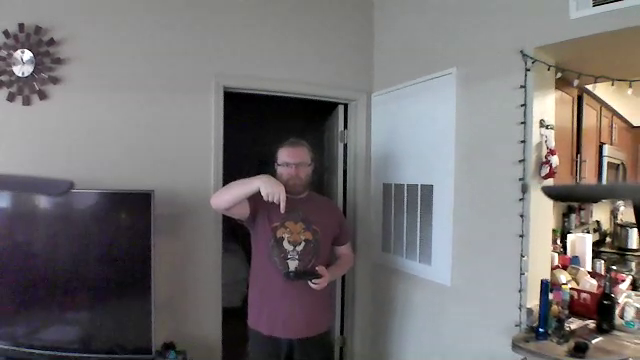down: (254, 166, 289, 218)
